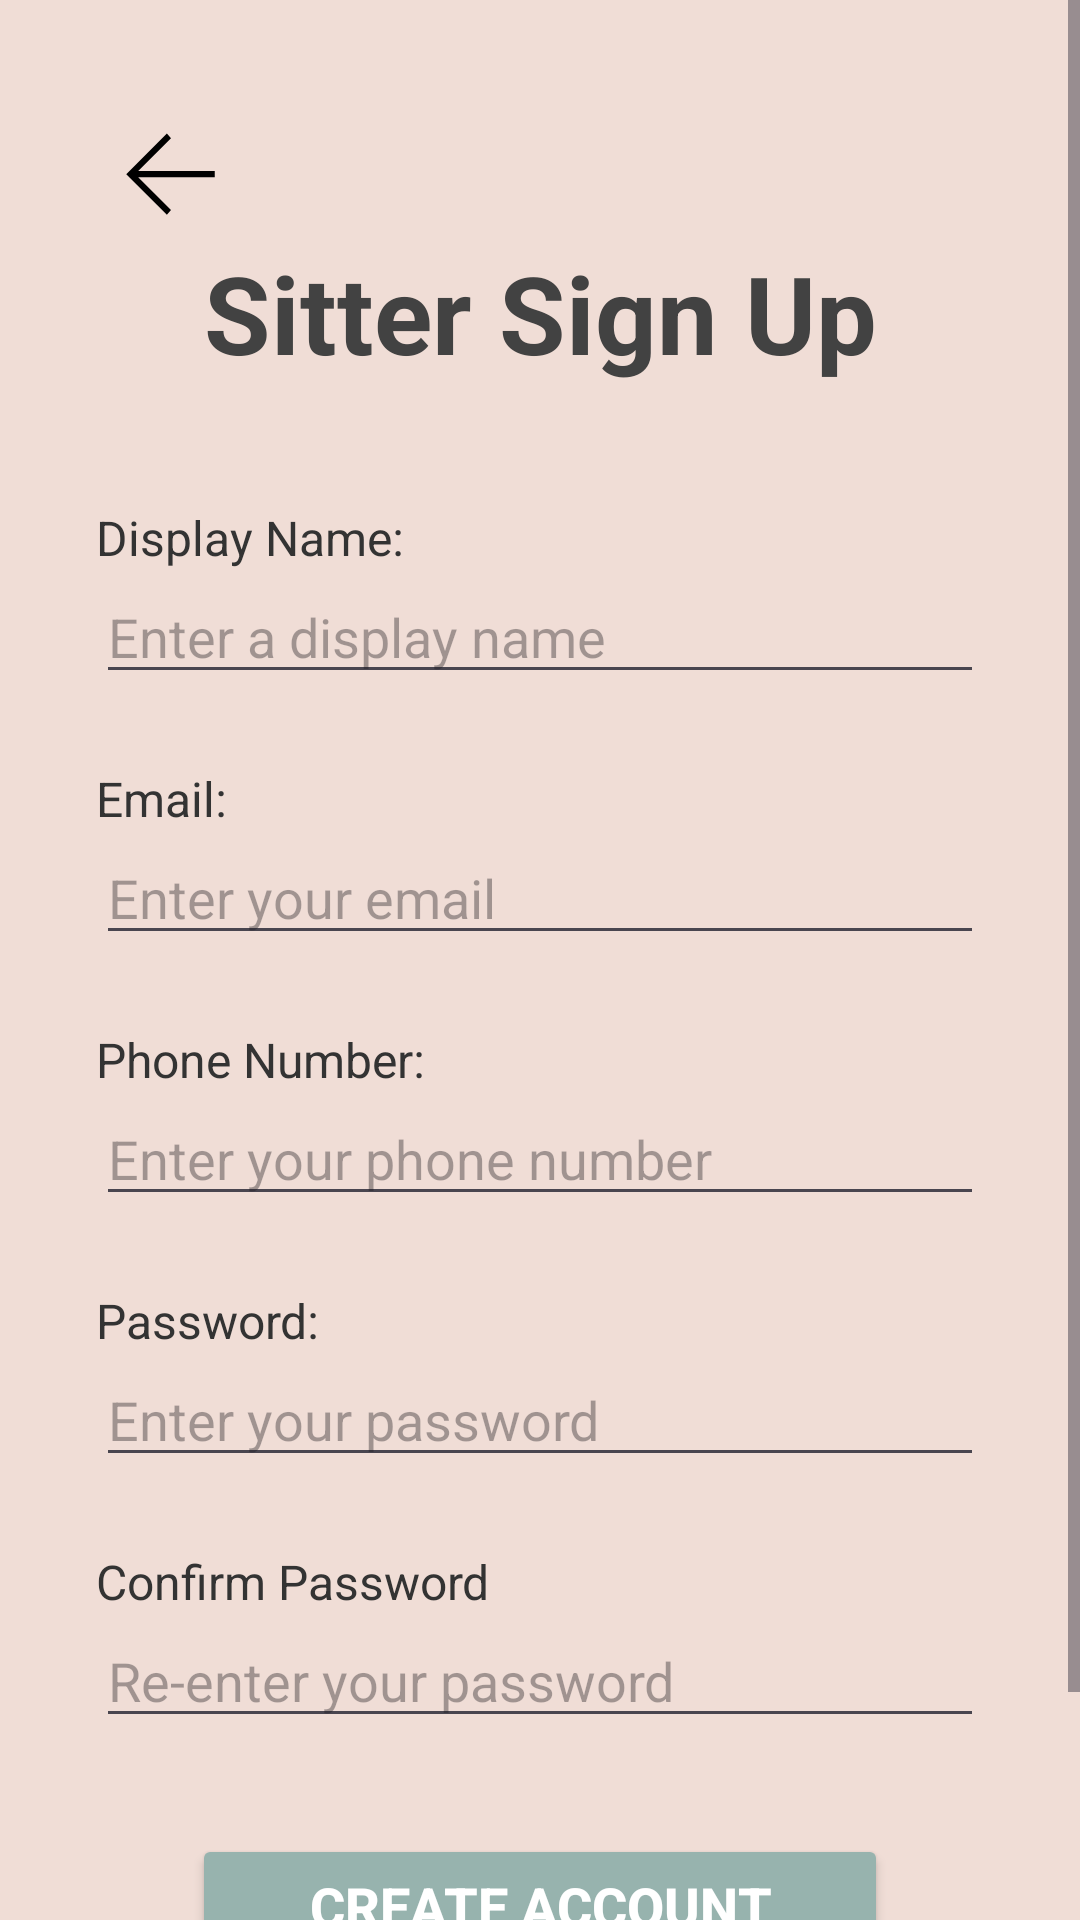

Named icons in this screenshot (1080px x 1920px) and their bounding boxes, [x1,y1,x2,y2]:
Back button: [126,133,215,215]
